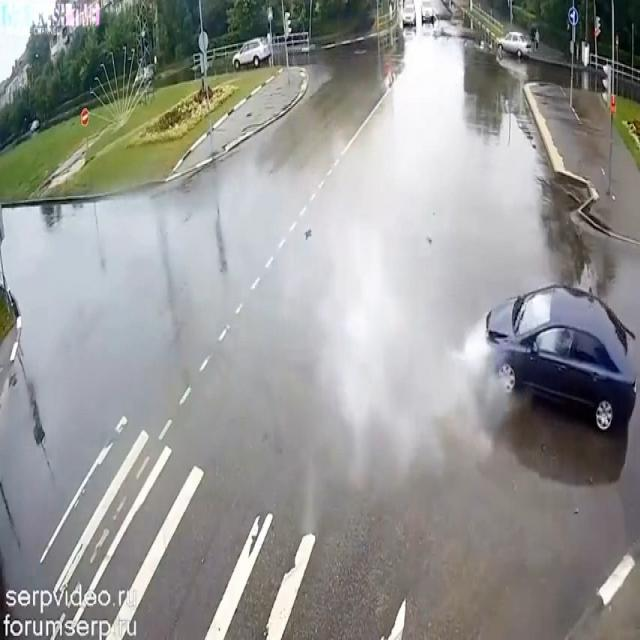Accident: (457, 250, 640, 503)
